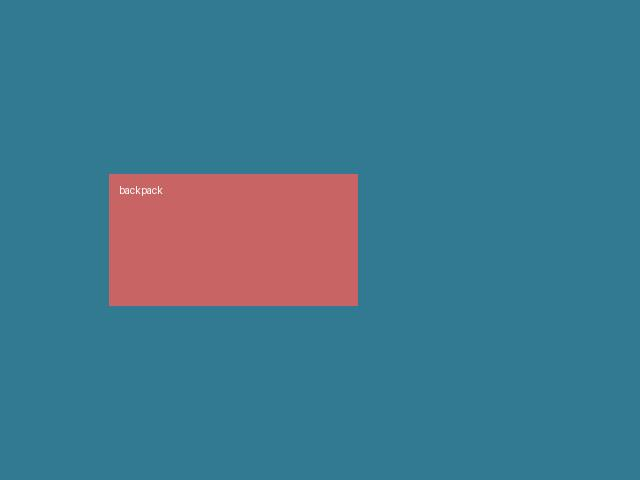backpack: (109, 174, 357, 305)
